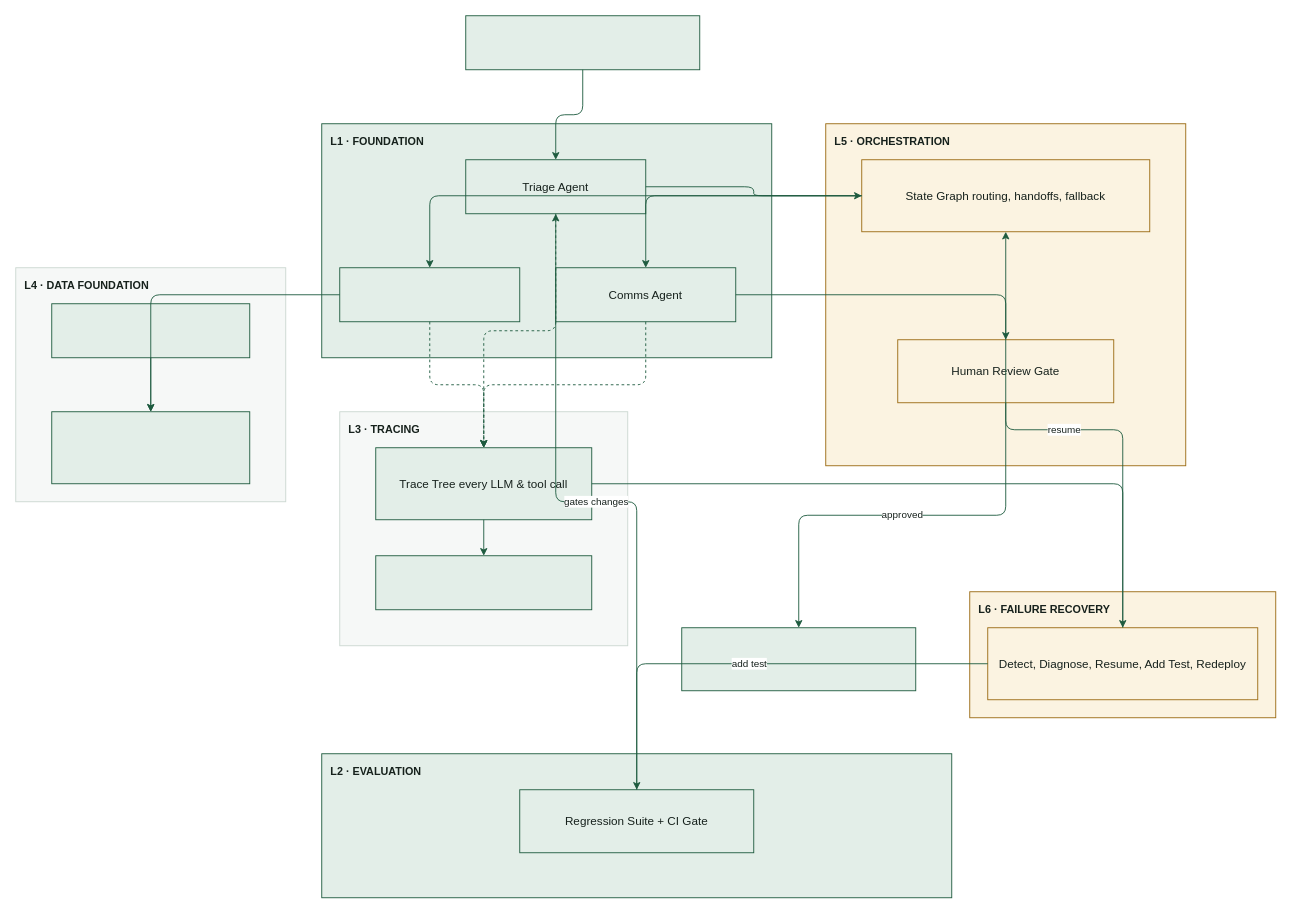
The diagram is 1292 pixels wide and 914 high, and some of its shapes have lost their labels. Here are the shapes that lost their labels. From the top down, the centre of each, then its label:
At point 582,42: "Real Incident Report".
At point 429,294: "Runbook Agent".
At point 150,330: "Freshness Checks".
At point 150,447: "Versioned Vector Store runbooks & postmortems".
At point 483,582: "Run Replay".
At point 798,659: "Sent Update / Resolved Incident".
